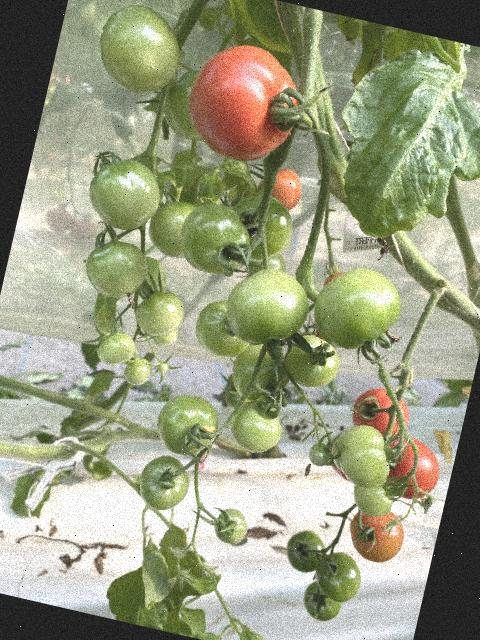l_fully_ripened: (177, 35, 309, 171), (374, 430, 447, 505), (346, 382, 414, 449), (253, 163, 305, 212)
l_green: (305, 258, 407, 360), (89, 0, 189, 101), (218, 260, 316, 355), (81, 151, 167, 237), (172, 196, 257, 281), (219, 187, 298, 269), (323, 418, 397, 492), (225, 332, 296, 408), (150, 388, 223, 461), (79, 234, 152, 303), (189, 294, 257, 363), (158, 64, 218, 142), (278, 330, 343, 393), (133, 449, 195, 515), (226, 395, 288, 457), (142, 194, 198, 261), (309, 547, 366, 606), (130, 285, 188, 341), (281, 526, 329, 576), (298, 577, 346, 625), (349, 475, 396, 520), (93, 327, 138, 369), (211, 504, 251, 547), (244, 246, 289, 283), (121, 354, 154, 387), (151, 322, 179, 349), (306, 440, 332, 468), (157, 361, 169, 374)
l_half_ripened: (342, 502, 409, 567)
